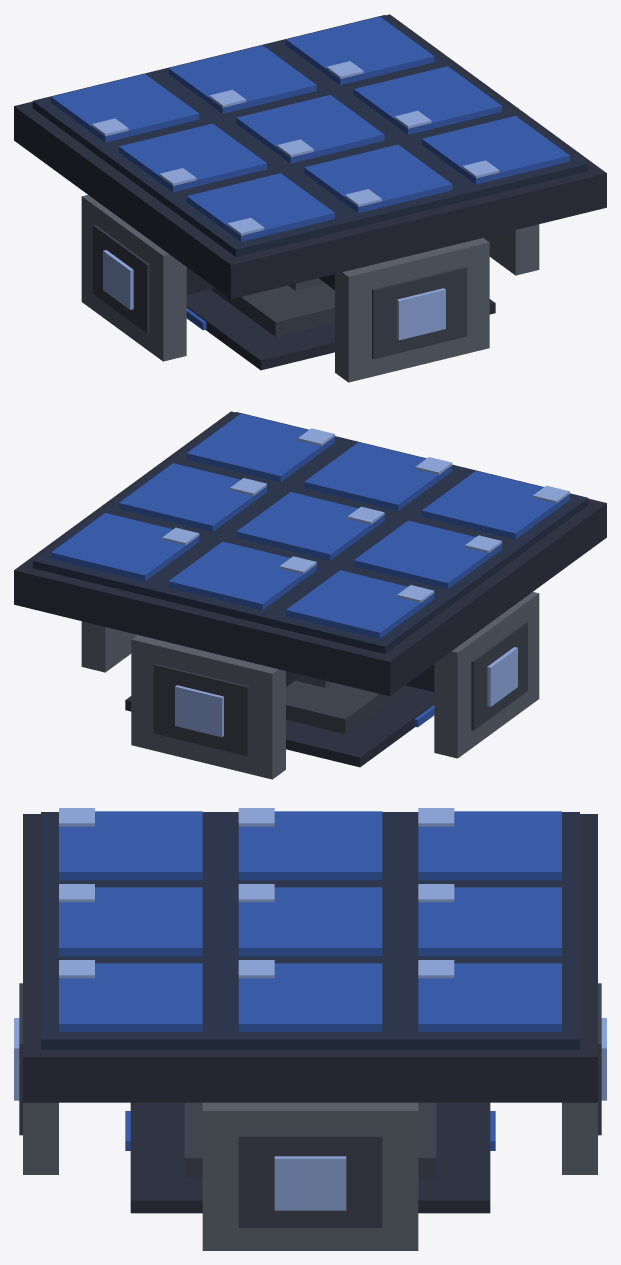
Rendered from solar.glb.
3 views of the same model, one above another, from view 1: azimuth 30°, elevation 25°; view 2: azimuth 150°, elevation 25°; view 3: azimuth 270°, elevation 25° (orthographic). The views are drawn at different scales.
Visible parts, largest first — view 1: body.027, link_y-.002, link_x-.002, link_z-.002, link_x+.002; view 2: body.027, link_y+.002, link_x-.002, link_z-.002, link_x+.002; view 3: body.027, link_x+.002, link_z-.002, link_y+.002, link_y-.002.
Part boxes in pixels (<box>): body.027: <box>14,14,606,336</box>; link_y-.002: <box>318,238,489,382</box>; link_x-.002: <box>81,195,215,361</box>; link_z-.002: <box>186,289,495,370</box>; link_x+.002: <box>483,224,539,275</box>; body.027: <box>14,411,606,733</box>; link_y+.002: <box>131,635,302,779</box>; link_x-.002: <box>405,592,539,758</box>; link_z-.002: <box>125,686,434,767</box>; link_x+.002: <box>81,621,137,672</box>; body.027: <box>23,808,597,1177</box>; link_x+.002: <box>202,1102,418,1250</box>; link_z-.002: <box>125,1102,495,1213</box>; link_y+.002: <box>562,983,606,1174</box>; link_y-.002: <box>14,983,58,1174</box>.
Size of the model in its own units: 1.03 by 0.4281 by 1.03.
